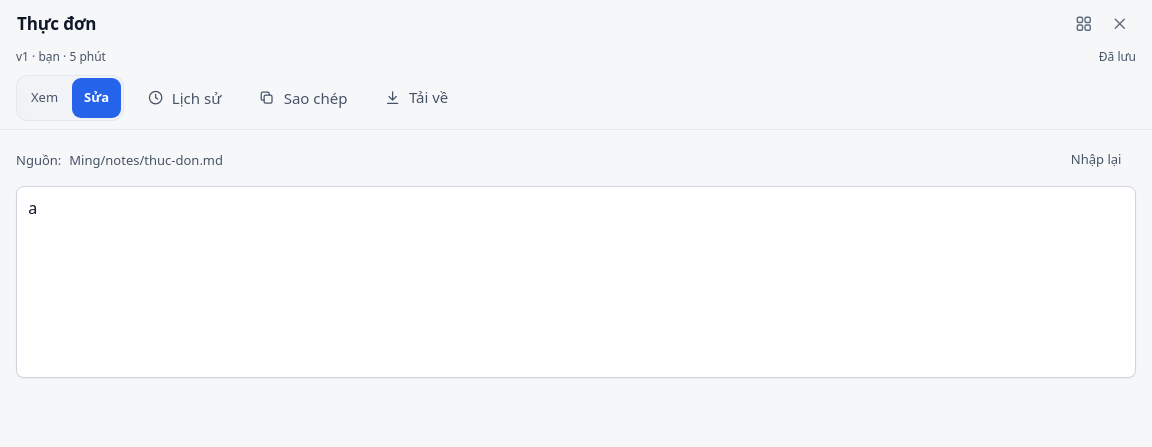
Scenario: where the canvas came from › saves the typing through the dock before the file is read, and asks for nothing when the dock could not
Click the button "Nhập lại" at (1096, 160), box top-left (1056, 142), bottom-right (1136, 178)
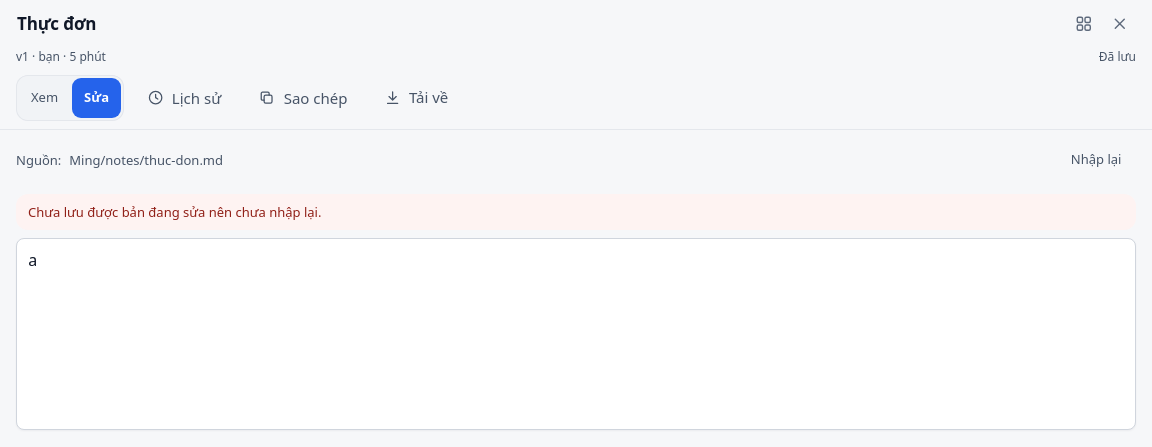
Check: the text box named "Nội dung canvas" holds "a", box top-left (16, 238), bottom-right (1136, 430)
Check: the message "Chưa lưu được bản đang sửa nên chưa nhập lại." is shown, box top-left (16, 194), bottom-right (1136, 230)
